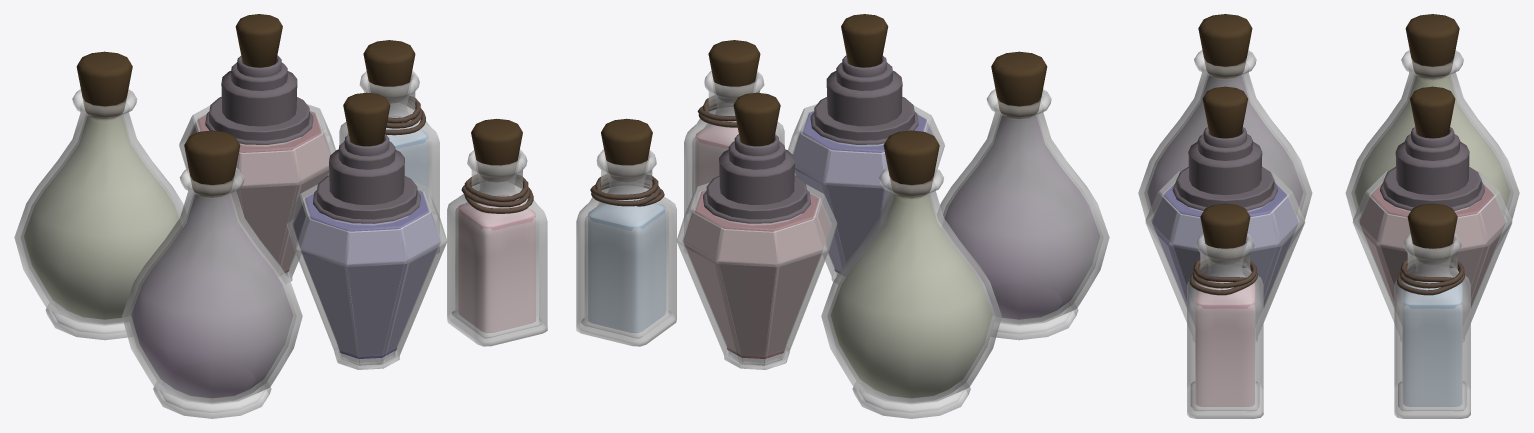
The model's file is potions.fbx.
3 renders of one model, left to right at view 1: azimuth 30°, elevation 25°; view 2: azimuth 150°, elevation 25°; view 3: azimuth 270°, elevation 25°, orthographic. The views are drawn at different scales.
Visible parts, largest first — view 1: potion.003, potion.005, potion, potion.002, potion.001, potion.004; view 2: potion.005, potion.003, potion.002, potion, potion.004, potion.001; view 3: potion, potion.002, potion.001, potion.004, potion.005, potion.003.
Part boxes in pixels (x1,y1,x2,y2): potion.003: (122,130,302,418); potion.005: (14,51,186,340); potion: (286,92,447,369); potion.002: (179,14,335,283); potion.001: (447,119,547,346); potion.004: (339,40,439,253); potion.005: (821,130,1001,418); potion.003: (937,51,1109,340); potion.002: (676,92,837,369); potion: (788,14,944,283); potion.004: (576,118,676,346); potion.001: (684,40,784,253); potion: (1145,86,1305,341); potion.002: (1352,86,1512,341); potion.001: (1187,203,1263,418); potion.004: (1394,203,1470,418); potion.005: (1345,14,1519,246); potion.003: (1138,14,1312,247).
Bounding box in the file's own units: 270 × 166 × 233.
